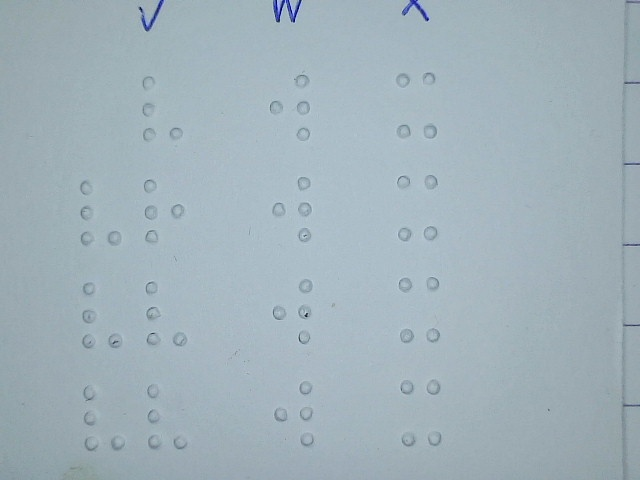V: (140, 72, 185, 144), (78, 176, 123, 248), (144, 277, 189, 349), (144, 380, 189, 452), (82, 381, 127, 453)
W: (267, 71, 312, 143), (270, 172, 315, 244), (270, 273, 315, 345), (271, 376, 316, 448)
X: (394, 68, 439, 140), (395, 171, 440, 243), (397, 273, 442, 345), (399, 376, 444, 448)
